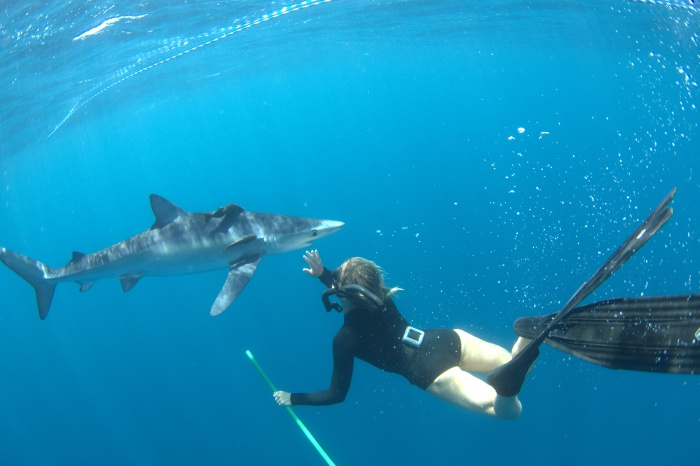Azul: (1, 187, 364, 328)
